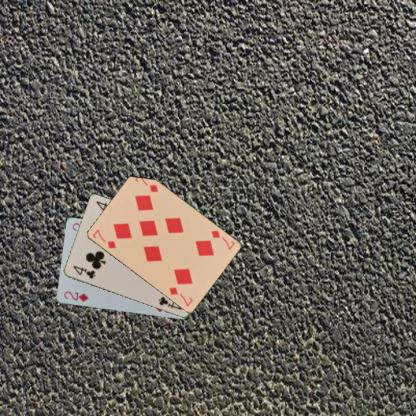2d: (61, 289, 90, 303)
4c: (70, 263, 96, 280)
7d: (208, 228, 236, 251), (90, 226, 117, 249)
